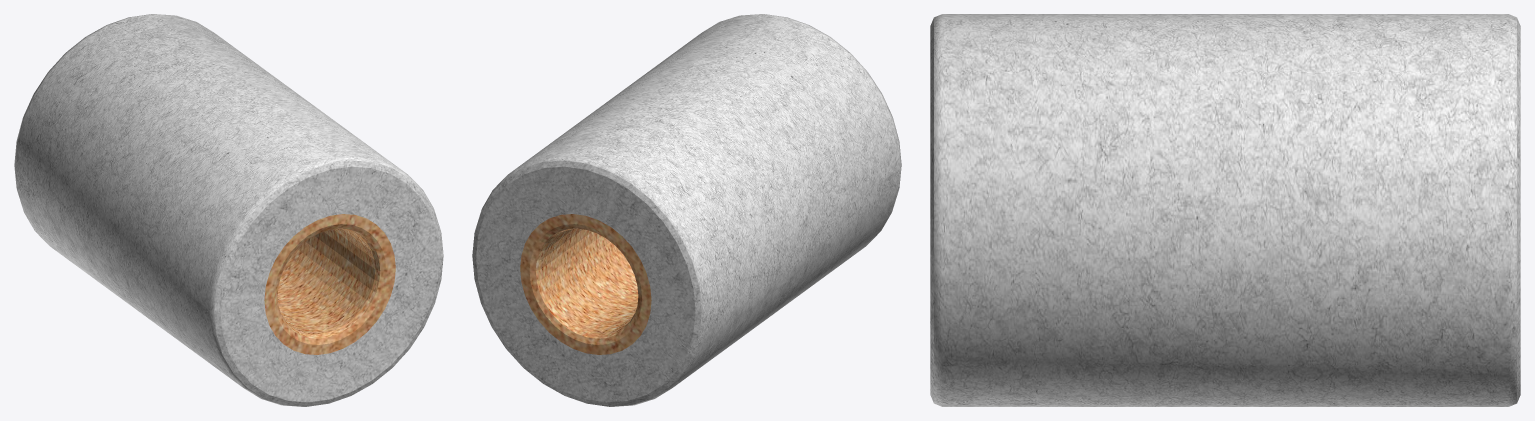
3 views of the same model, side by side, from view 1: azimuth 30°, elevation 25°; view 2: azimuth 150°, elevation 25°; view 3: azimuth 270°, elevation 25° (orthographic). The views are drawn at different scales.
Visible parts, largest first — view 1: Cylinder; view 2: Cylinder; view 3: Cylinder.
Part boxes in pixels (<box>): Cylinder: <box>14,14,443,406</box>; Cylinder: <box>472,14,901,406</box>; Cylinder: <box>930,14,1520,406</box>.
Size of the model in its own units: 0.2 by 0.2 by 0.3.
Materials: 2 (2 with a texture image).
